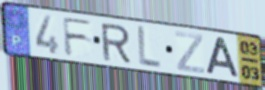4: (34, 14, 61, 56)
A: (204, 36, 241, 79)
F: (61, 16, 95, 58)
L: (136, 24, 162, 71)
R: (99, 22, 133, 64)
Z: (173, 30, 206, 76)
